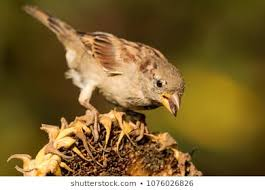hsparrow: (18, 3, 189, 137)
